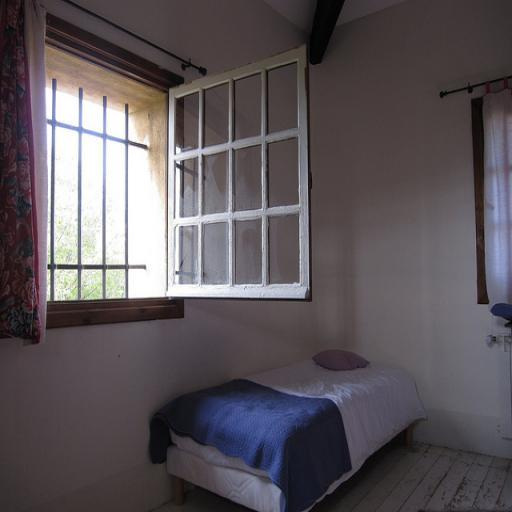bed: (112, 326, 460, 512)
